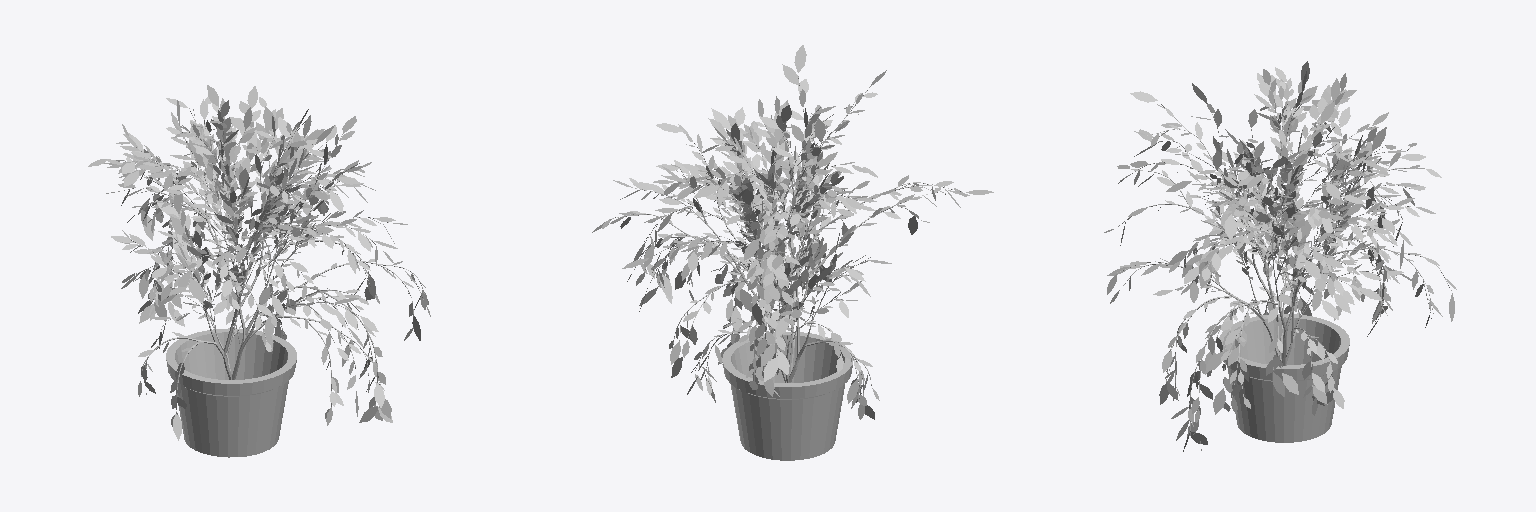
File: plant.obj
3 renders of one model, left to right at view 1: azimuth 30°, elevation 25°; view 2: azimuth 150°, elevation 25°; view 3: azimuth 270°, elevation 25°, orthographic.
Parts seen in each view (by area): view 1: leaves; view 2: leaves; view 3: leaves.
Boxes of the visible parts, x1,y1,x2,y2 form: leaves: [88, 85, 430, 457]; leaves: [592, 45, 993, 460]; leaves: [1104, 61, 1456, 451].
Bounding box in the file's own units: 1.52 × 1.65 × 1.49.